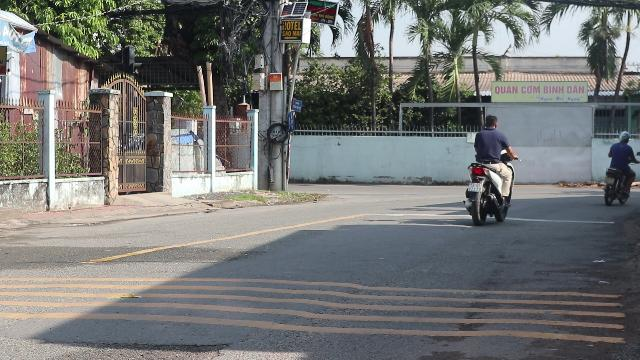licenseplate: (468, 183, 482, 192)
motorcyclist: (462, 113, 514, 223)
nohelmet: (482, 115, 498, 130)
